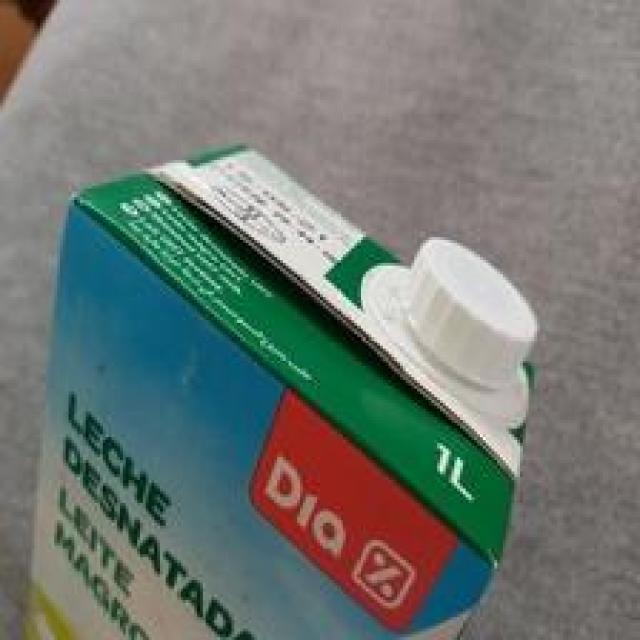Carton: (20, 137, 537, 639)
